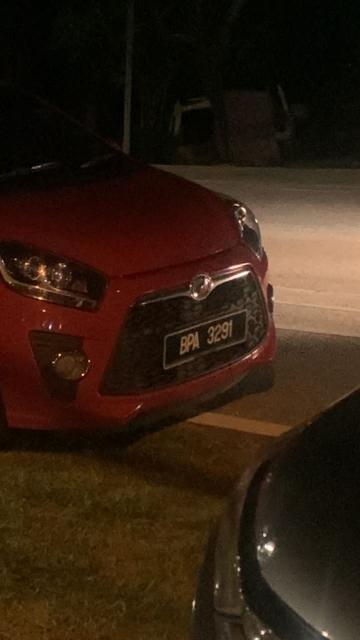License_Plate: (165, 319, 260, 362)
car: (1, 106, 293, 437)
